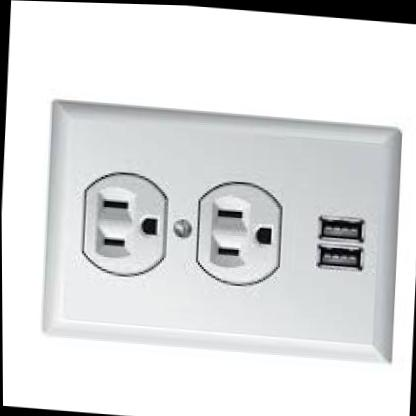OUTLET: (38, 97, 402, 361)
